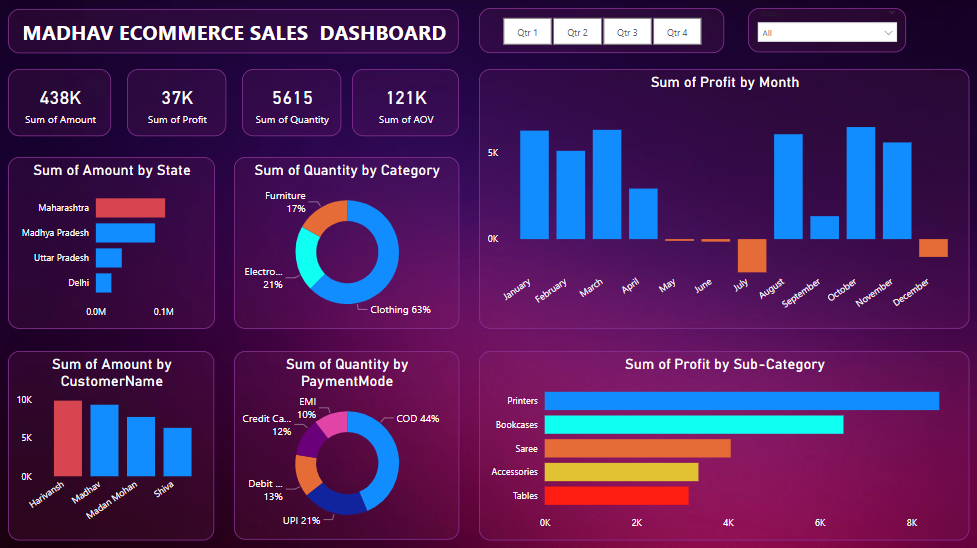

Layout of this report page (visuals, bound fields, positions):
{"tool":"powerbi","page":{"name":"Page 1","canvas":[1280,720],"ordinal":0},"visuals":[{"type":"textbox","box":[11.8,13.1,590.4,57.6],"z":0},{"type":"columnChart","fields":{"Y":["Details.Profit"],"Category":["Orders.Order Date.Variation.Date Hierarchy.Month"]},"box":[627.8,92.2,642.2,339.8],"z":1000},{"type":"barChart","fields":{"Category":["Details.Sub-Category"],"Y":["Details.Profit"]},"box":[627.8,460.8,642.2,247.7],"z":2000},{"type":"donutChart","fields":{"Category":["Details.Category"],"Y":["Details.Quantity"]},"box":[307.6,206.8,294.5,225.2],"z":3000},{"type":"donutChart","fields":{"Y":["Details.Quantity"],"Category":["Details.PaymentMode"]},"box":[307.6,460.8,294.5,247.4],"z":4000},{"type":"card","fields":{"Values":["Details.Amount"]},"box":[11.5,92.2,135.4,87.8],"z":5000},{"type":"card","fields":{"Values":["Details.Profit"]},"box":[167,92.2,129.6,87.8],"z":6000},{"type":"card","fields":{"Values":["Details.Quantity"]},"box":[318.2,92.2,129.6,87.8],"z":7000},{"type":"card","fields":{"Values":["Details.AOV"]},"box":[462.2,92.2,139.7,87.8],"z":8000},{"type":"barChart","fields":{"Y":["Details.Amount"],"Category":["Orders.State"]},"box":[11.5,207.4,270.7,224.6],"z":9000},{"type":"columnChart","fields":{"Y":["Details.Amount"],"Category":["Orders.CustomerName"]},"box":[12,461,270,248],"z":10000},{"type":"slicer","fields":{"Values":["Orders.Order Date.Variation.Date Hierarchy.Quarter"]},"box":[627.8,11.5,321.1,59],"z":11000},{"type":"slicer","fields":{"Values":["Orders.State"]},"box":[980.6,11.5,207.4,57.6],"z":12000}]}

Visuals, with their boxes in screenshot pixels (x1, y1, x2, y2), scaled from the page's 1280x720 canvas onto the 977x548 screenshot:
textbox: bbox(9, 10, 460, 54)
columnChart - Details.Profit x Orders.Order Date.Variation.Date Hierarchy.Month: bbox(479, 70, 969, 329)
barChart - Details.Sub-Category x Details.Profit: bbox(479, 351, 969, 539)
donutChart - Details.Category x Details.Quantity: bbox(235, 157, 460, 329)
donutChart - Details.Quantity x Details.PaymentMode: bbox(235, 351, 460, 539)
card - Details.Amount: bbox(9, 70, 112, 137)
card - Details.Profit: bbox(127, 70, 226, 137)
card - Details.Quantity: bbox(243, 70, 342, 137)
card - Details.AOV: bbox(353, 70, 459, 137)
barChart - Details.Amount x Orders.State: bbox(9, 158, 215, 329)
columnChart - Details.Amount x Orders.CustomerName: bbox(9, 351, 215, 540)
slicer - Orders.Order Date.Variation.Date Hierarchy.Quarter: bbox(479, 9, 724, 54)
slicer - Orders.State: bbox(748, 9, 907, 53)
